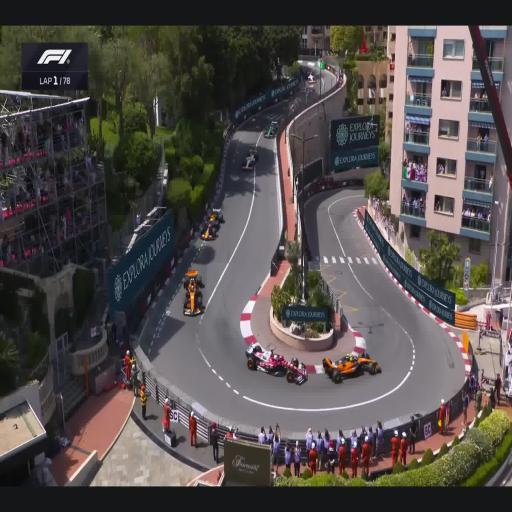f1_car: (246, 343, 307, 384), (323, 353, 381, 383), (183, 270, 203, 316), (241, 149, 258, 170), (200, 221, 217, 240), (208, 208, 224, 227), (265, 121, 277, 138), (307, 73, 315, 83)
